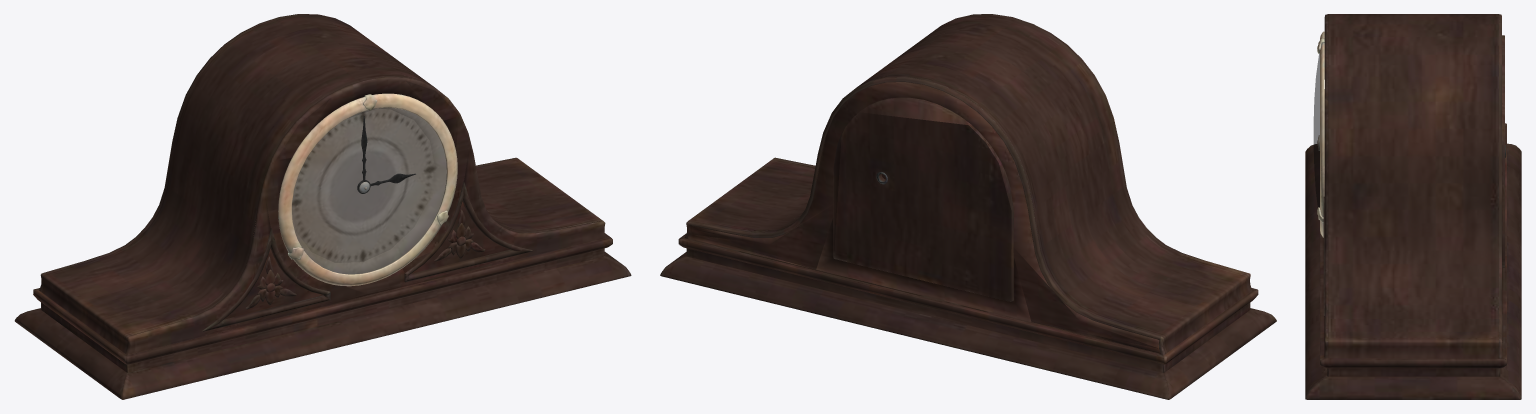
Rendered from mantel_clock_01.glb.
3 renders of one model, left to right at view 1: azimuth 30°, elevation 25°; view 2: azimuth 150°, elevation 25°; view 3: azimuth 270°, elevation 25°, orthographic.
Parts seen in each view (by area): view 1: mantel_clock_01, mantel_clock_01_glass; view 2: mantel_clock_01; view 3: mantel_clock_01, mantel_clock_01_glass.
Part boxes in pixels (x1,y1,x2,y2): mantel_clock_01: (14, 14, 631, 399); mantel_clock_01_glass: (292, 107, 446, 274); mantel_clock_01: (660, 14, 1276, 399); mantel_clock_01: (1305, 14, 1521, 399); mantel_clock_01_glass: (1313, 53, 1319, 207).
Bounding box in the file's own units: 0.3424 × 0.1605 × 0.1262.
Materials: 2 (2 with a texture image).
